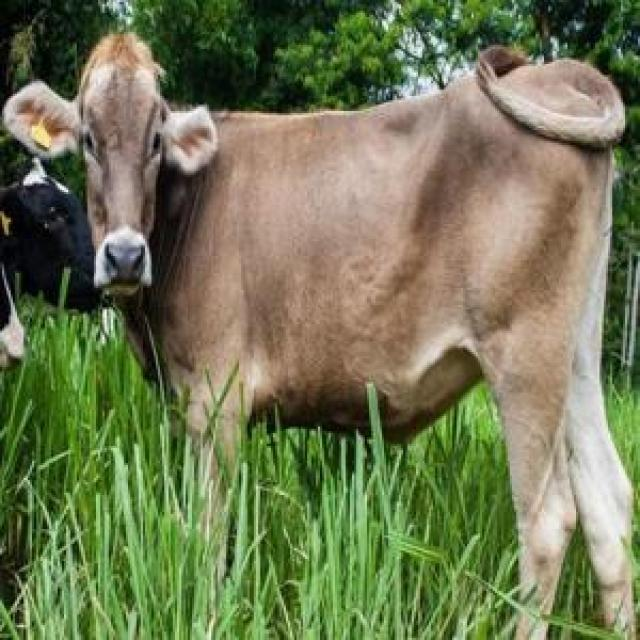not_pig: (0, 28, 638, 638)
